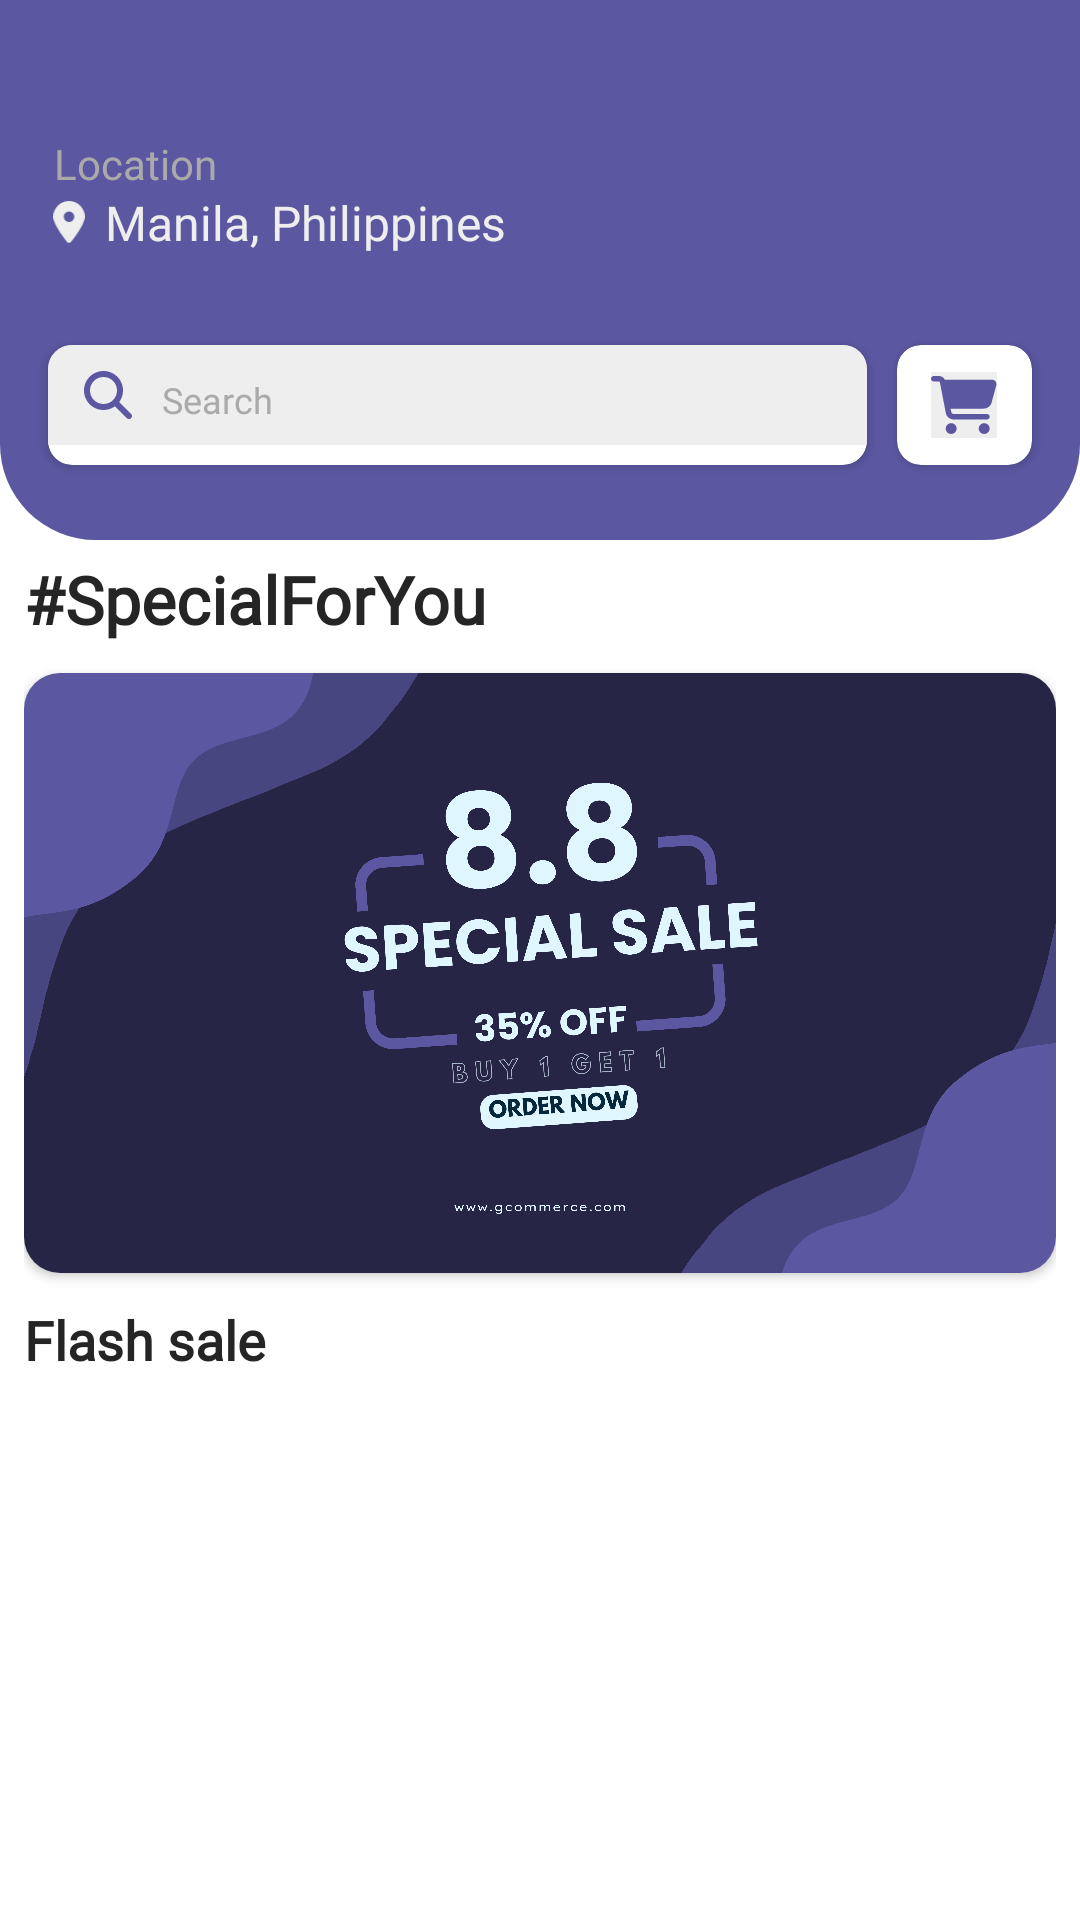

Icons on this 1080 x 1920 Android screen, each with its box as [x1, y1, x2, y2]:
cart: [931, 376, 997, 434]
